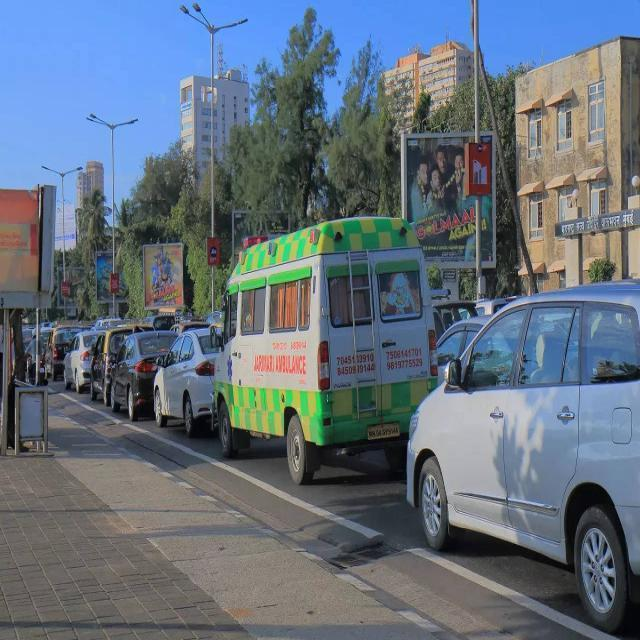Ambulance: (11, 365, 627, 638), (402, 278, 638, 635), (209, 214, 441, 487), (148, 323, 225, 439), (106, 327, 181, 423)
